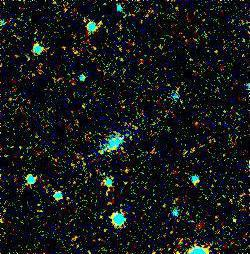star: (221, 204, 250, 234)
